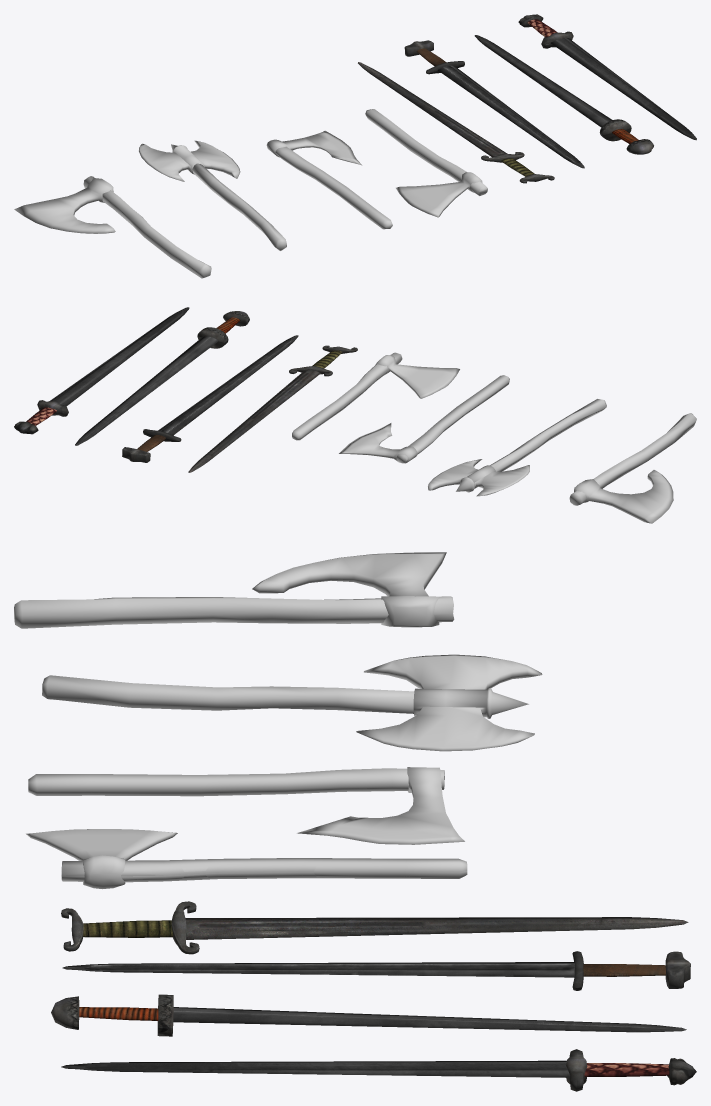
File: weapon2.fbx
3 renders of one model, top to bottom at view 1: azimuth 30°, elevation 25°; view 2: azimuth 150°, elevation 25°; view 3: azimuth 270°, elevation 25°, orthographic. The views are drawn at different scales.
Visible parts, largest first — view 1: weapon2, weapon1; view 2: weapon2, weapon1; view 3: weapon2, weapon1.
Part boxes in pixels (box(x1,y1,x2,y2)): weapon2: box(14, 109, 487, 278); weapon1: box(358, 14, 696, 183); weapon2: box(292, 352, 696, 523); weapon1: box(14, 307, 357, 472); weapon2: box(14, 552, 542, 889); weapon1: box(51, 901, 696, 1091).
Bounding box in the file's own units: 38.17 × 1.14 × 20.5.
